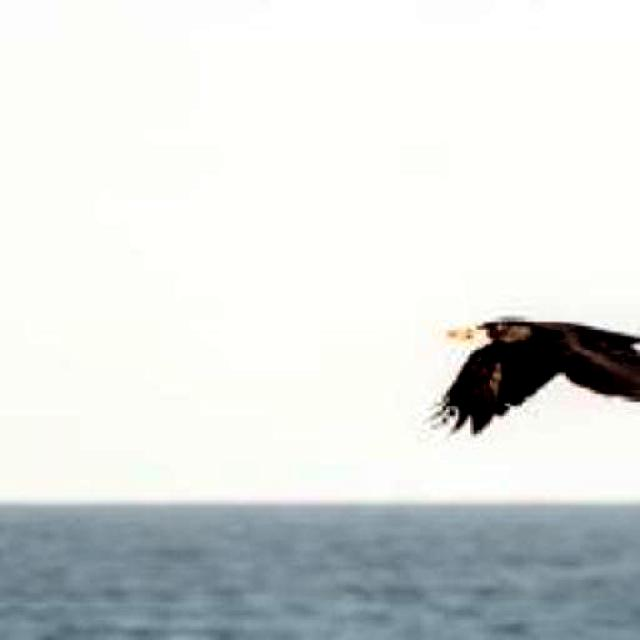airplane: (421, 319, 640, 439)
